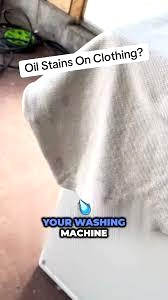oil: (51, 91, 76, 117), (53, 155, 70, 171)
